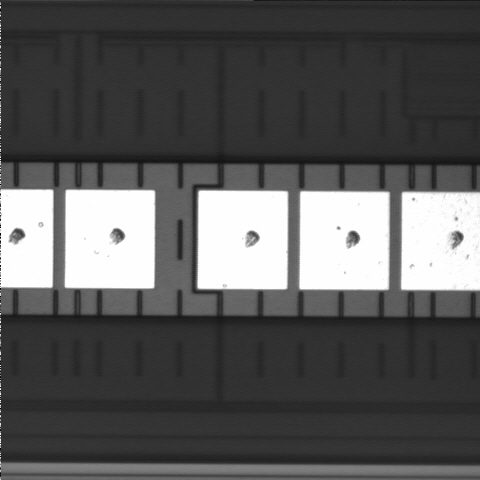pad: (299, 191, 389, 290), (65, 190, 155, 288), (198, 191, 288, 289)
